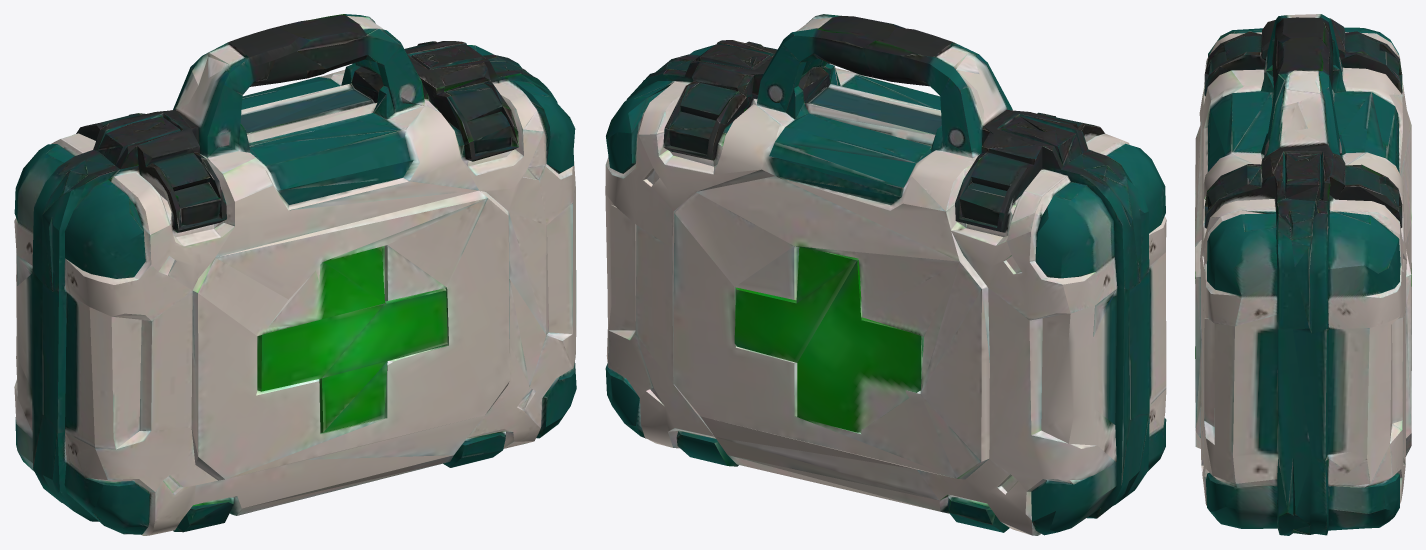
The model's file is First_Aid_Kit.glb.
The picture shows the model from 3 angles, left to right: view 1: azimuth 30°, elevation 25°; view 2: azimuth 150°, elevation 25°; view 3: azimuth 270°, elevation 25°; orthographic projection. The views are drawn at different scales.
Size of the model in its own units: 1.9 by 1.58 by 0.7644.
Materials: 1 (1 with a texture image).
